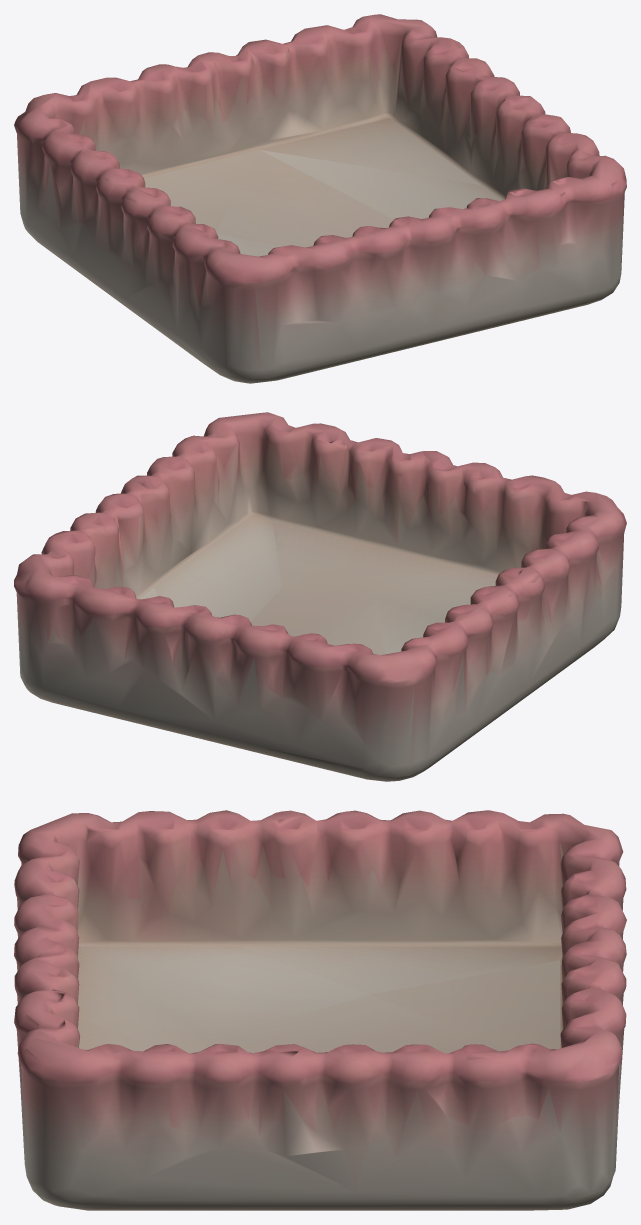
Rendered from tray_dessert.glb.
The picture shows the model from 3 angles, top to bottom: view 1: azimuth 30°, elevation 25°; view 2: azimuth 150°, elevation 25°; view 3: azimuth 270°, elevation 25°; orthographic projection. The views are drawn at different scales.
Visible parts, largest first — view 1: tray_dessert; view 2: tray_dessert; view 3: tray_dessert.
Boxes of the visible parts, bbox=[...] form: tray_dessert: bbox=[14, 14, 626, 383]; tray_dessert: bbox=[14, 412, 626, 781]; tray_dessert: bbox=[14, 810, 626, 1210].
Bounding box in the file's own units: 0.9993 × 0.2997 × 1.
Materials: 1 (1 with a texture image).
